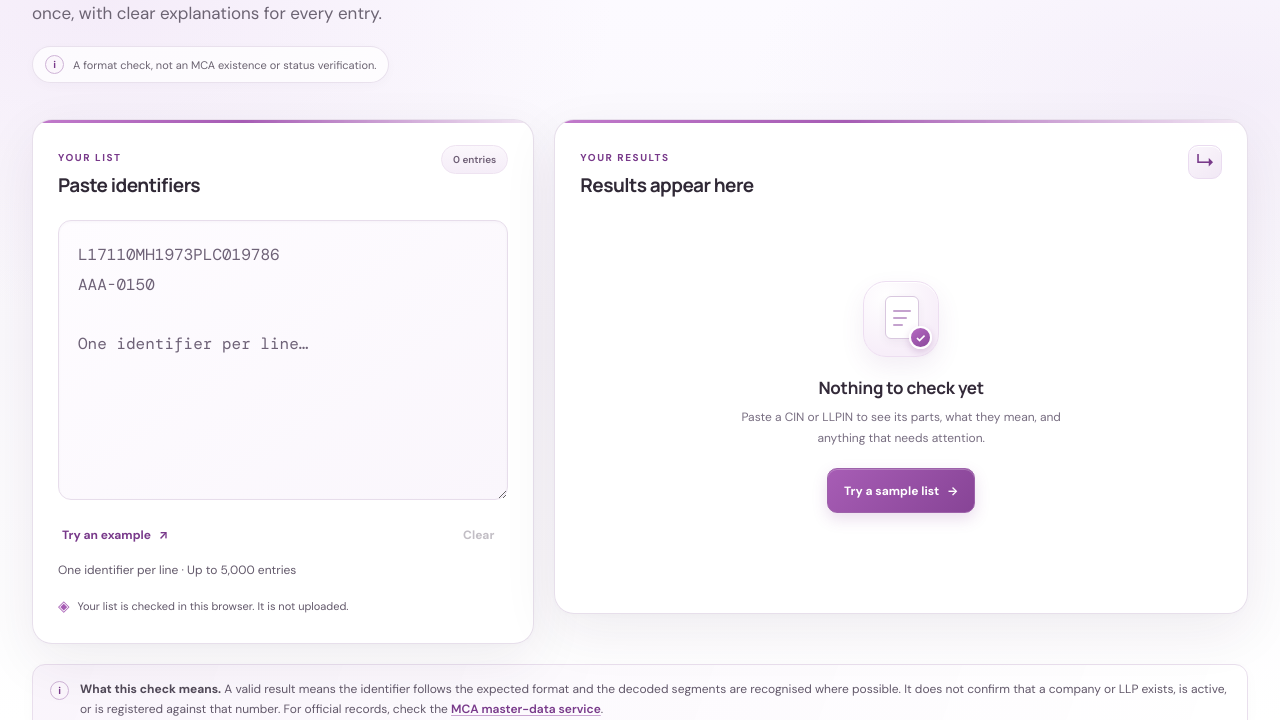
Scenario: FileSure checker interface › disables CSV export when the active filter has no results
(page scrolled)
In the text box named "Paste one CIN or LLPIN per line": (283, 360) [58, 220, 508, 500], type "L17110MH1973PLC019786"
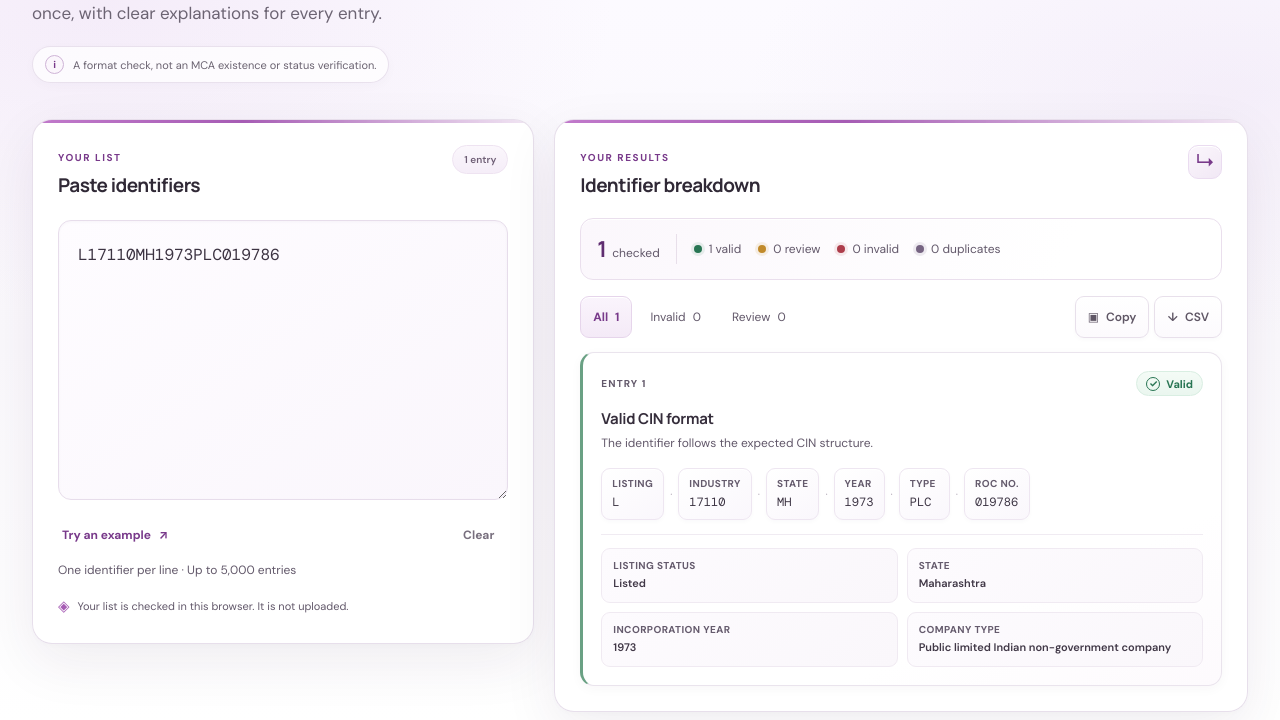
Expected: the heading "Valid CIN format" is shown, [601, 408, 714, 429]
Click the button "Invalid 0": (676, 317) [637, 296, 714, 338]
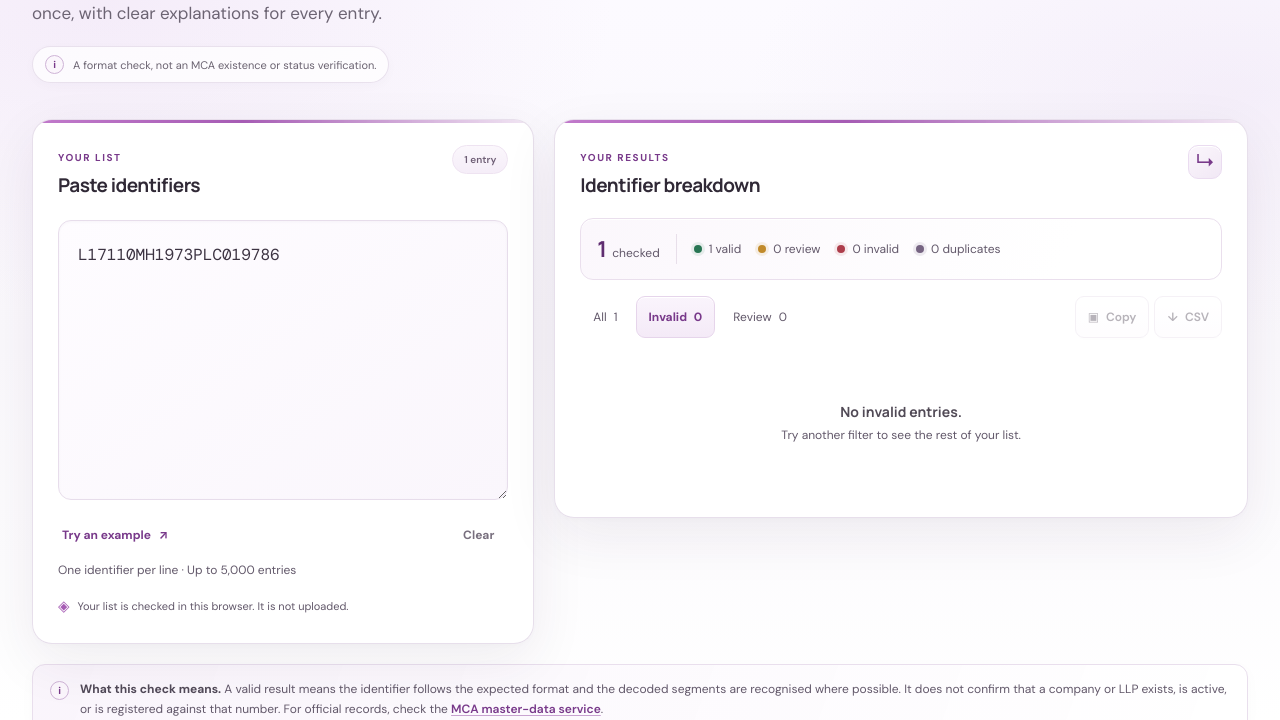
Expected: the button "↓ CSV" is disabled, [1154, 296, 1222, 338]
